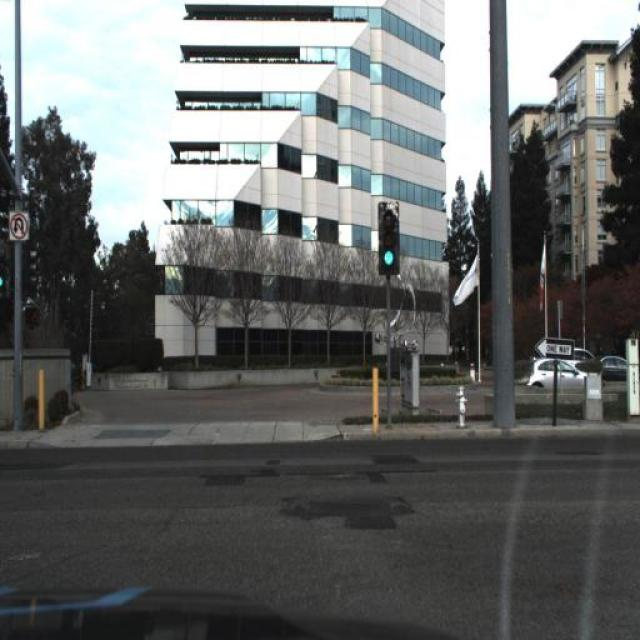car: (527, 362, 594, 392)
trafficLight-GreenLeft: (373, 200, 398, 276), (380, 206, 398, 270), (0, 254, 11, 294), (0, 257, 8, 305)
